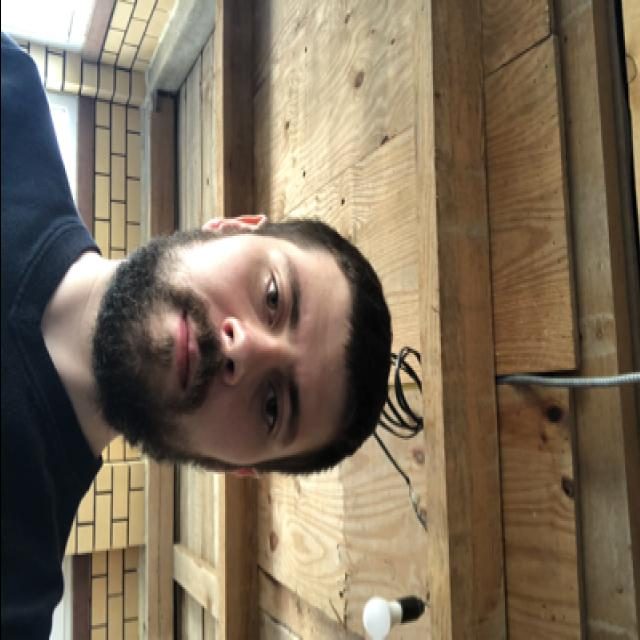no_mask: (96, 243, 318, 462)
